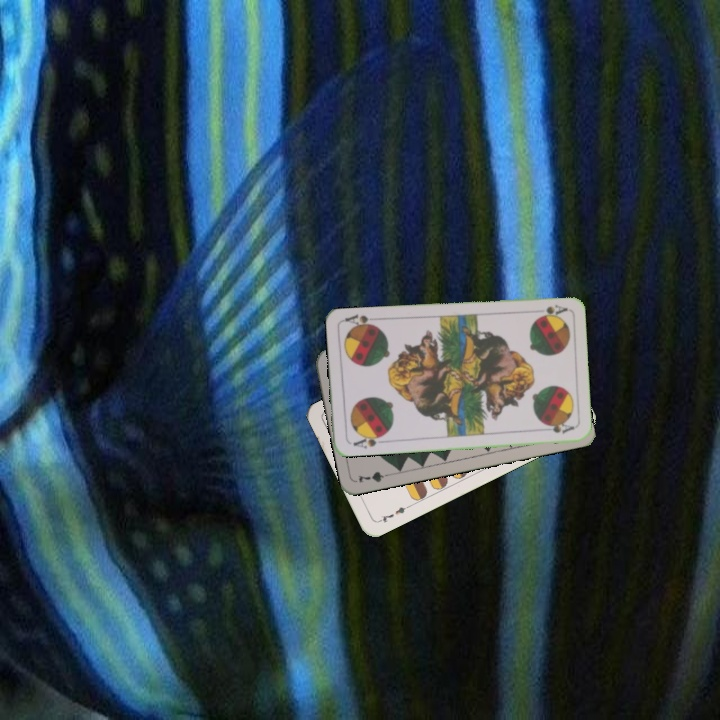E7: (374, 501, 413, 525)
G7: (354, 467, 395, 485)
SA: (349, 430, 388, 451), (533, 300, 569, 320)
